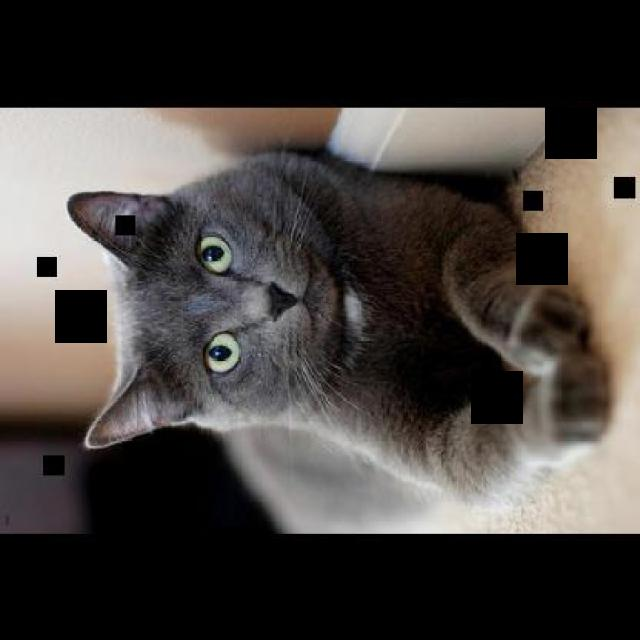unauthorized: (64, 142, 614, 506)
